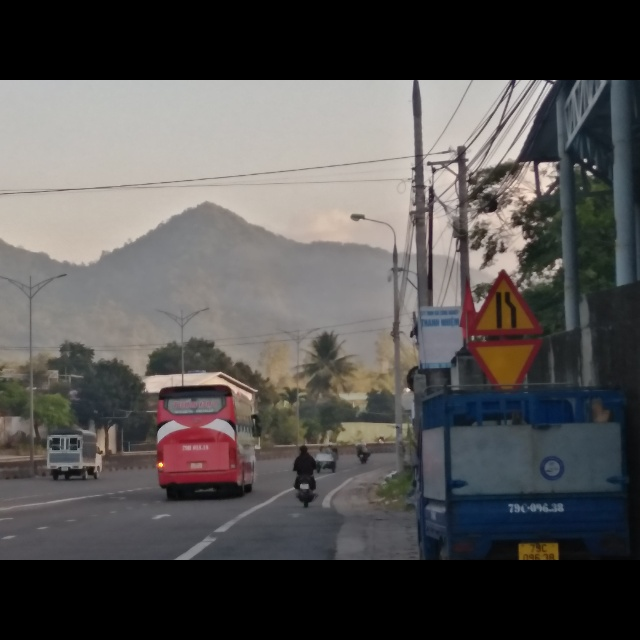Giao nhau với đường ưu tiên: (468, 338, 543, 388)
Đường bị hẹp bên phải: (468, 268, 543, 337)
